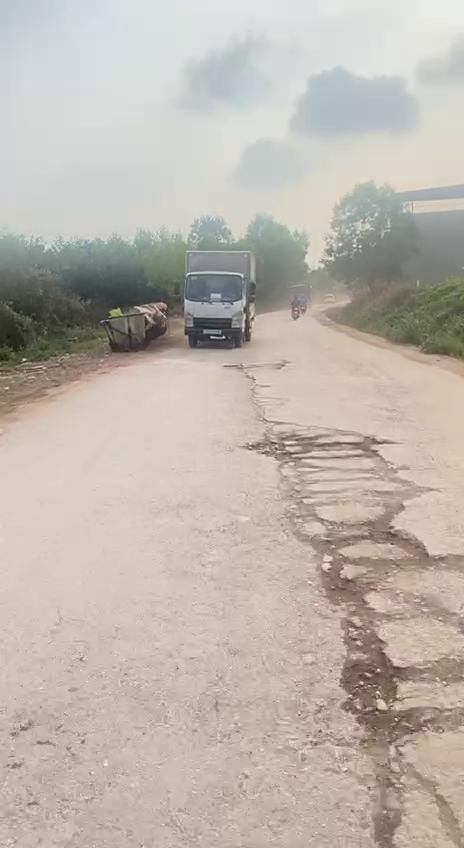pothole: (336, 624, 464, 848), (293, 498, 464, 634), (238, 418, 395, 481)
